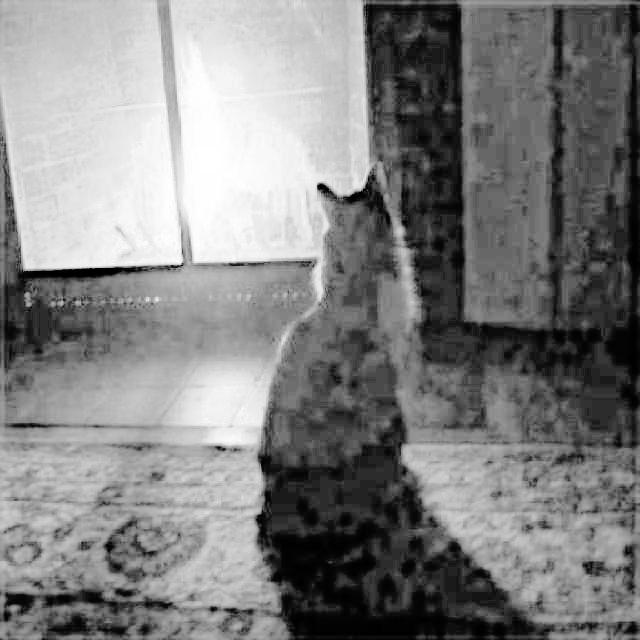Cat: (254, 154, 415, 476)
